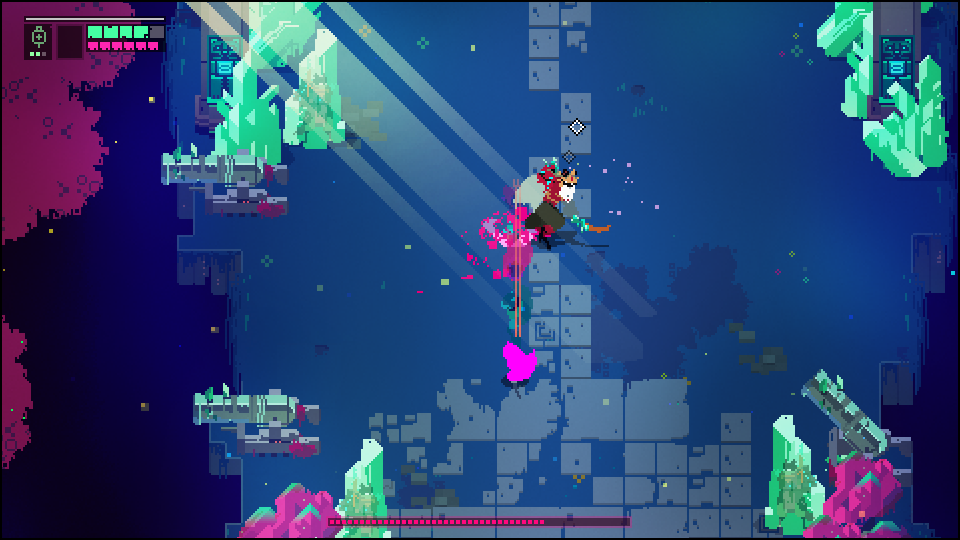hanged_man: (508, 153, 598, 252)
player: (501, 335, 539, 390)
